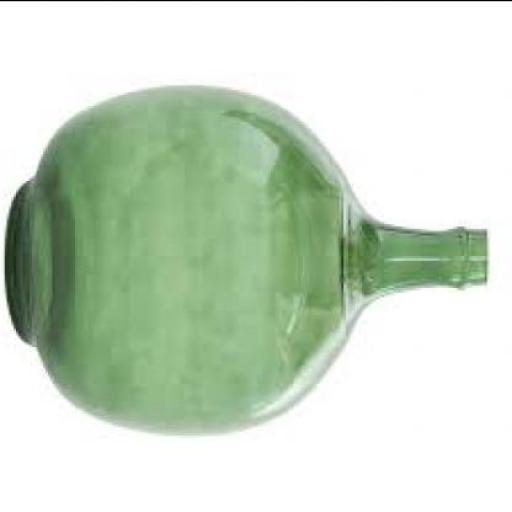glass: (6, 82, 492, 432)
